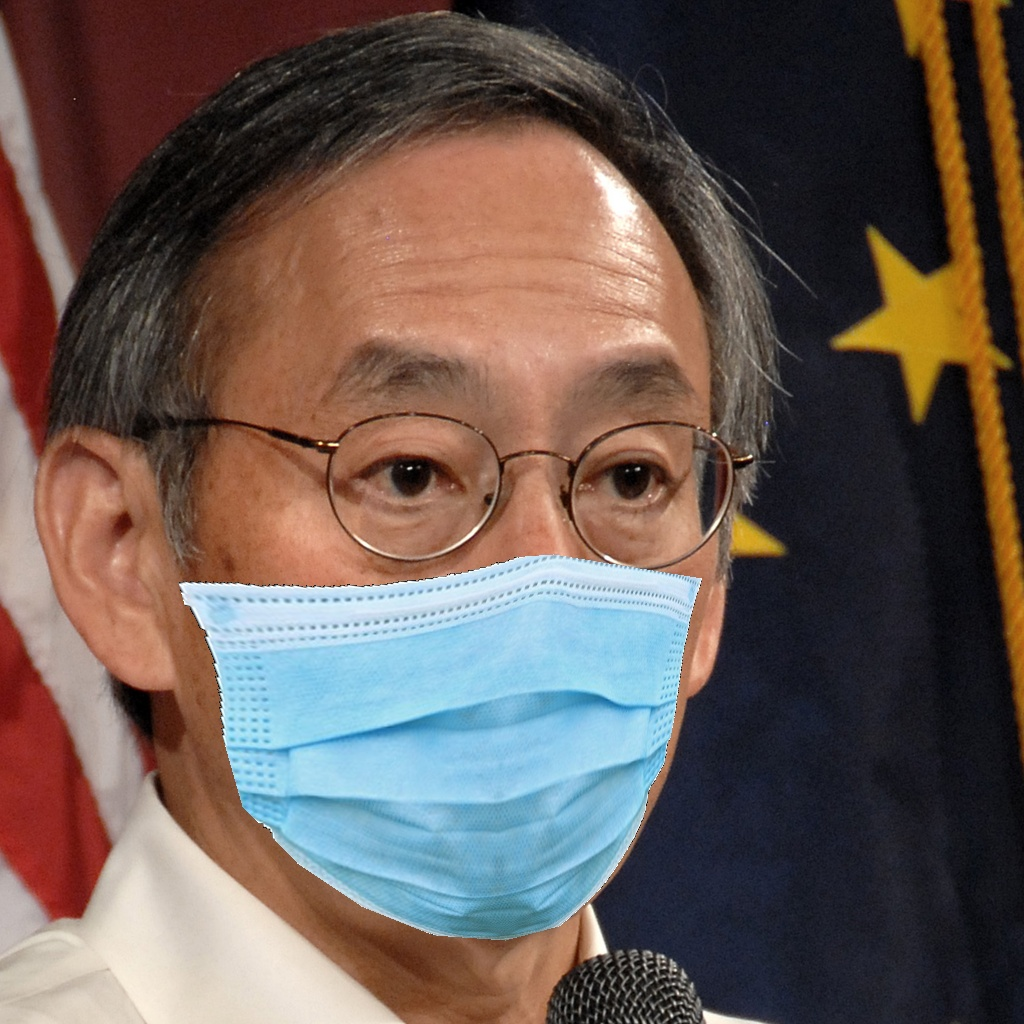Mask: (176, 318, 703, 949)
